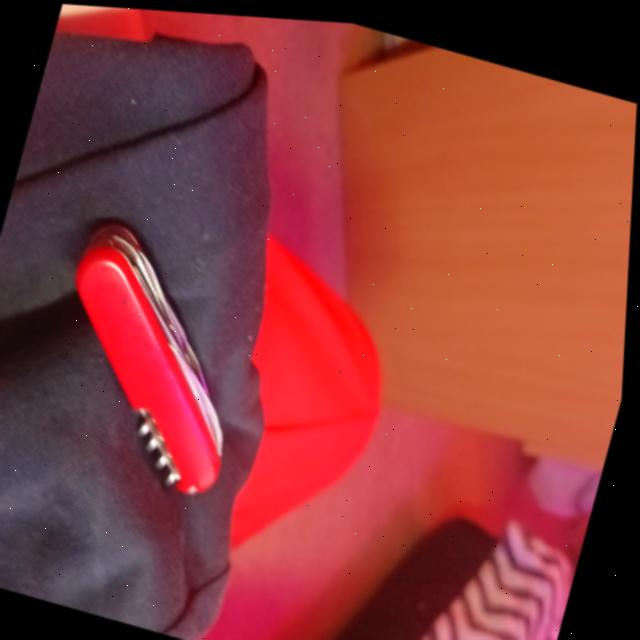knife victorinox: (77, 222, 226, 490)
